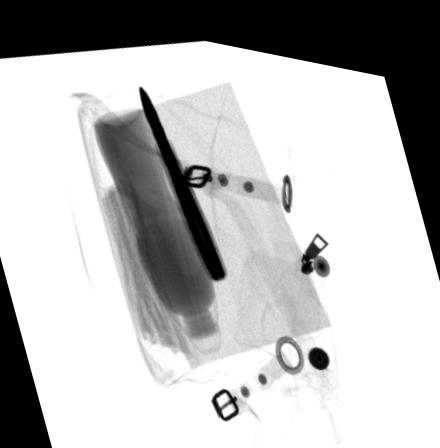Pliers: (138, 78, 228, 274)
